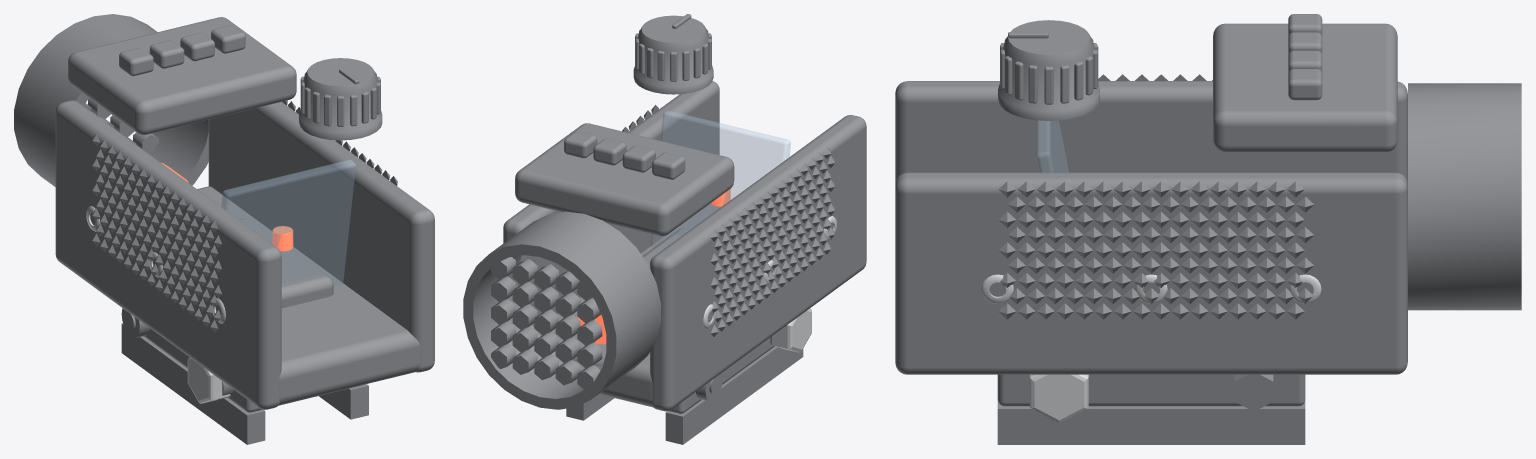
Rendered from mega-weapon-pack-holographic-sight-7f47aeec__33366.glb.
3 renders of one model, left to right at view 1: azimuth 30°, elevation 25°; view 2: azimuth 150°, elevation 25°; view 3: azimuth 270°, elevation 25°, orthographic. The views are drawn at different scales.
Parts seen in each view (by area): view 1: holographic-sight; view 2: holographic-sight; view 3: holographic-sight.
Part boxes in pixels (x1,y1,x2,y2): holographic-sight: (14,14,434,444); holographic-sight: (463,14,866,444); holographic-sight: (895,14,1521,444).
Size of the model in its own units: 0.0466 by 0.079 by 0.11.
